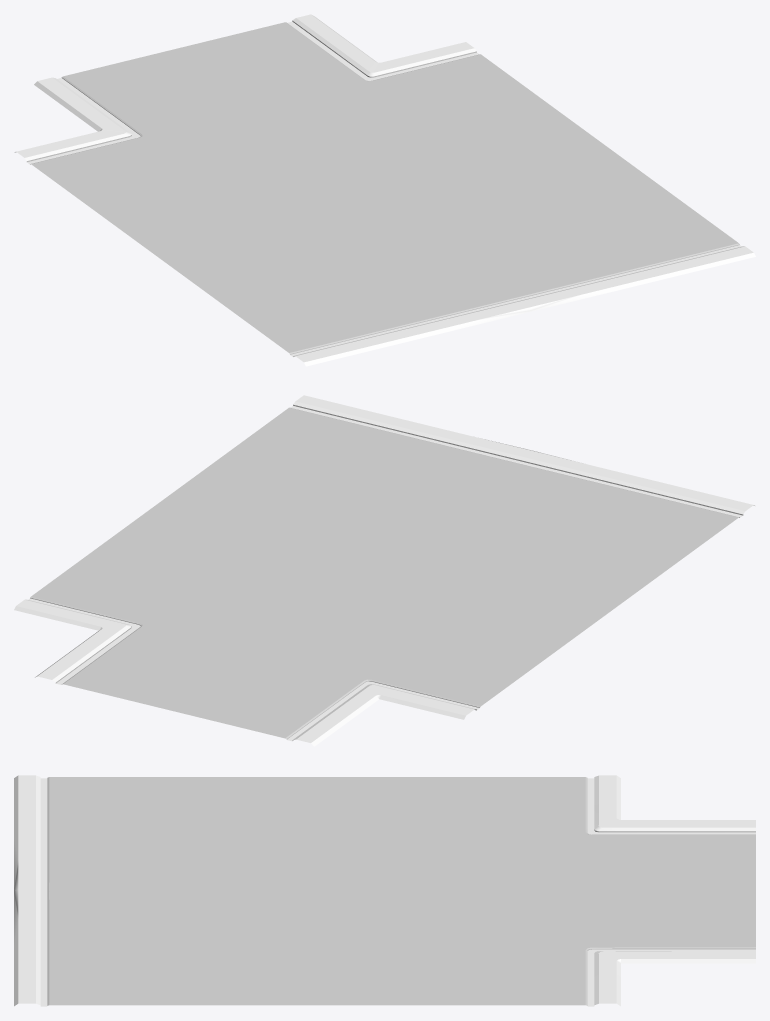
The model's file is T_junction_narow.fbx.
3 renders of one model, top to bottom at view 1: azimuth 30°, elevation 25°; view 2: azimuth 150°, elevation 25°; view 3: azimuth 270°, elevation 25°, orthographic. The views are drawn at different scales.
Parts seen in each view (by area): view 1: T_junction_narow; view 2: T_junction_narow; view 3: T_junction_narow.
Boxes of the visible parts, x1,y1,x2,y2 form: T_junction_narow: [14, 14, 755, 366]; T_junction_narow: [14, 395, 754, 746]; T_junction_narow: [14, 775, 755, 1006].
Size of the model in its own units: 5.98 by 0.0345 by 8.21.
